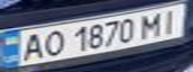0: (115, 16, 142, 43)
1: (66, 24, 90, 52)
7: (103, 18, 124, 47)
8: (84, 20, 106, 51)
A: (15, 30, 48, 62)
I: (154, 7, 187, 35)
M: (136, 10, 166, 39)
O: (36, 28, 69, 57)
